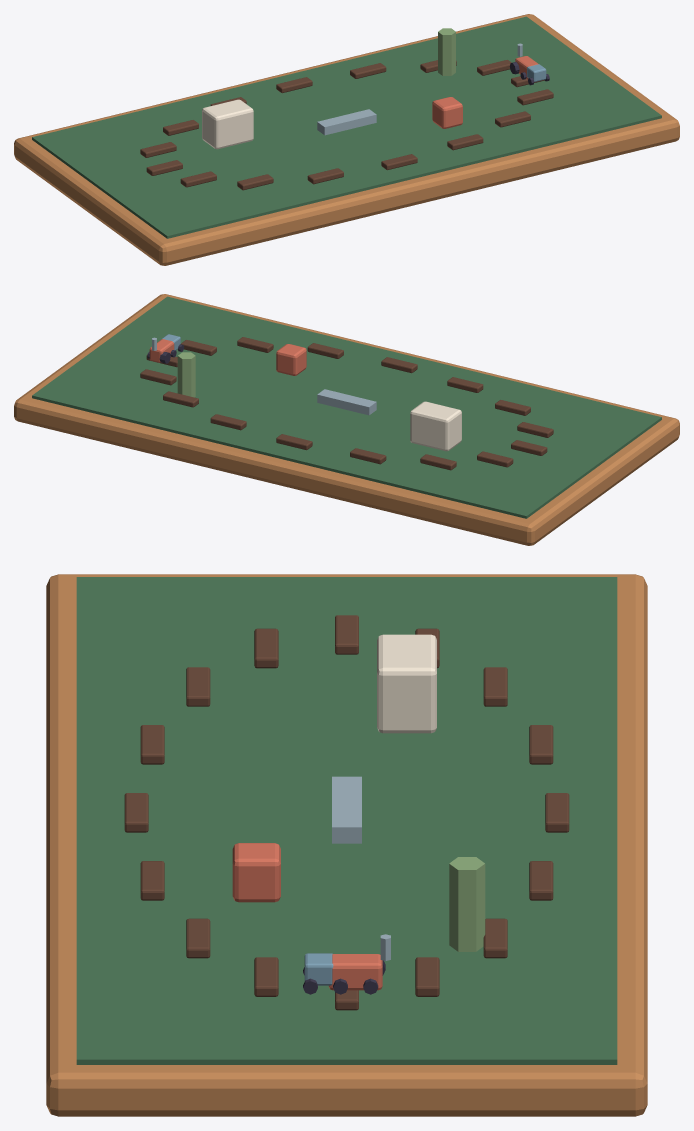
File: train_layout_board.glb
3 renders of one model, top to bottom at view 1: azimuth 30°, elevation 25°; view 2: azimuth 150°, elevation 25°; view 3: azimuth 270°, elevation 25°, orthographic. The views are drawn at different scales.
Visible parts, largest first — view 1: Board, Train; view 2: Board, Train; view 3: Board, Train.
Boxes of the visible parts, x1,y1,x2,y2 form: Board: (14,14,679,265); Train: (509,43,549,85); Board: (14,294,679,545); Train: (147,334,184,363); Board: (46,574,647,1116); Train: (303,934,390,994).
Bounding box in the file's own units: 2 × 0.24 × 1.
